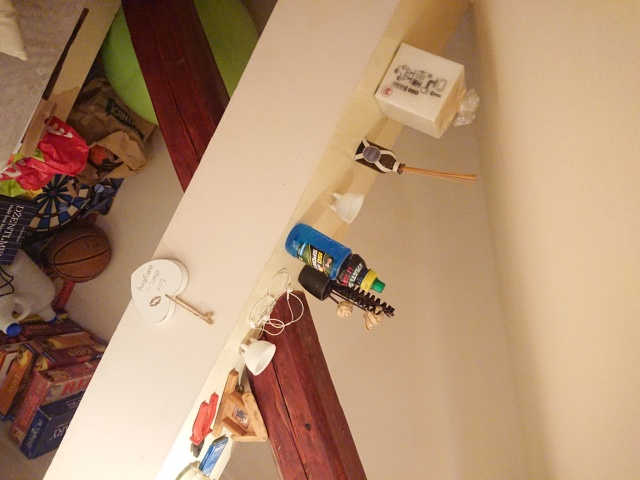Vindi Iso Sport Forest Strawberries 500mL: (283, 222, 387, 294)
